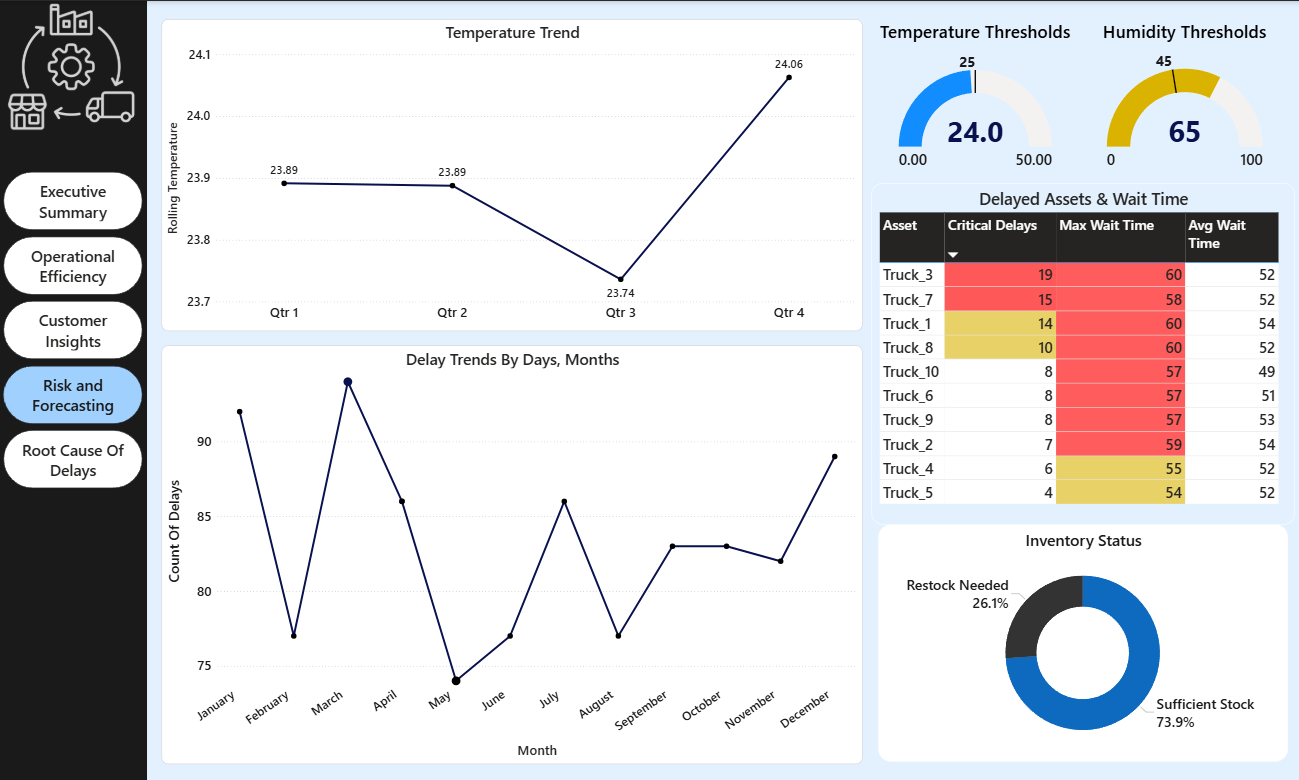

Layout of this report page (visuals, bound fields, positions):
{"tool":"powerbi","page":{"name":"Risk and Forecasting","canvas":[2000,1200],"ordinal":3},"visuals":[{"type":"lineChart","title":"Delay Trends By Days, Months","fields":{"Y":["CountNonNull(vw_CleanedLogistics.Logistics_Delay)"],"Category":["vw_CleanedLogistics.Timestamp.Variation.Date Hierarchy.Month","vw_CleanedLogistics.Timestamp.Variation.Date Hierarchy.Day"]},"box":[254.6,528.4,1073.7,641.3],"z":0},{"type":"donutChart","title":"Inventory Status","fields":{"Category":["vw_InventoryRisks.Inventory_Risk"],"Y":["CountNonNull(vw_InventoryRisks.Asset_ID)"]},"box":[1352.3,802.3,626.9,362.7],"z":1000},{"type":"tableEx","title":"Delayed Assets & Wait Time","fields":{"Values":["vw_CriticalDelays.Asset_ID","Sum(vw_CriticalDelays.Critical_Delay_Count)","Sum(vw_CriticalDelays.Max_Wait_Time)","Sum(vw_CriticalDelays.Avg_Wait_Time)"]},"box":[1342.7,278.6,648.5,523.6],"z":2000},{"type":"lineChart","title":"Temperature Trend ","fields":{"Category":["vw_TempTrends.Trip_Date.Variation.Date Hierarchy.Quarter","vw_TempTrends.Trip_Date.Variation.Date Hierarchy.Month","vw_TempTrends.Trip_Date.Variation.Date Hierarchy.Day"],"Y":["Avg(vw_TempTrends.Rolling_Temp_Avg)"]},"box":[254.6,28.8,1073.7,478],"z":3000},{"type":"shape","box":[0,0,233,1201],"z":4000},{"type":"pageNavigator","title":"Navigate","box":[12,261.8,213.8,490],"z":5000},{"type":"gauge","title":"Humidity Thresholds","fields":{"Y":["Avg(vw_WeatherRisk.Humidity)"]},"box":[1667,28.8,312.3,240.2],"z":6000},{"type":"image","title":"Logo","box":[9.6,0,216.2,201.8],"z":7000},{"type":"gauge","title":"Temperature Thresholds","fields":{"Y":["Avg(vw_WeatherRisk.Temperature)"]},"box":[1328.3,28.8,348.3,240.2],"z":8000}]}

Visuals, with their boxes on the page's 2000x1200 design canvas (x1, y1, x2, y2). These are canvas units, not pixel positions in the 1299x780 screenshot, which may show the page scaled, cropped or inside an application window:
"Delay Trends By Days, Months" lineChart: region(255, 528, 1328, 1170)
"Inventory Status" donutChart: region(1352, 802, 1979, 1165)
"Delayed Assets & Wait Time" tableEx: region(1343, 279, 1991, 802)
"Temperature Trend " lineChart: region(255, 29, 1328, 507)
shape: region(0, 0, 233, 1201)
"Navigate" pageNavigator: region(12, 262, 226, 752)
"Humidity Thresholds" gauge: region(1667, 29, 1979, 269)
"Logo" image: region(10, 0, 226, 202)
"Temperature Thresholds" gauge: region(1328, 29, 1677, 269)
